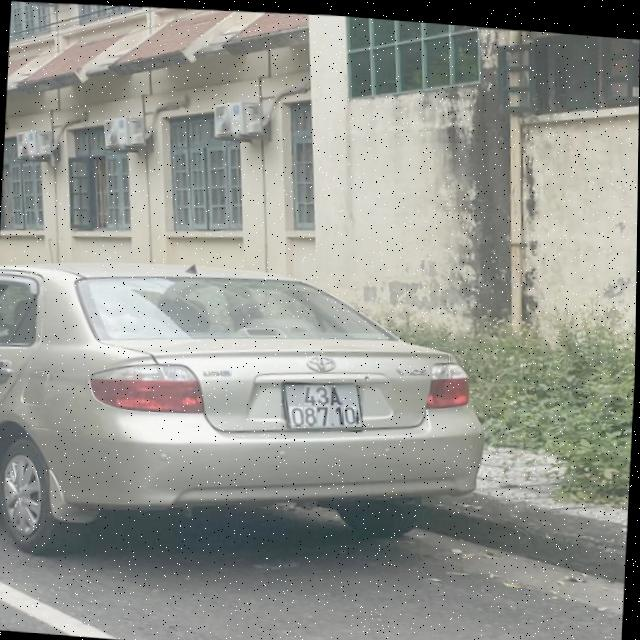car: (0, 245, 471, 582)
plate: (276, 372, 370, 440)
